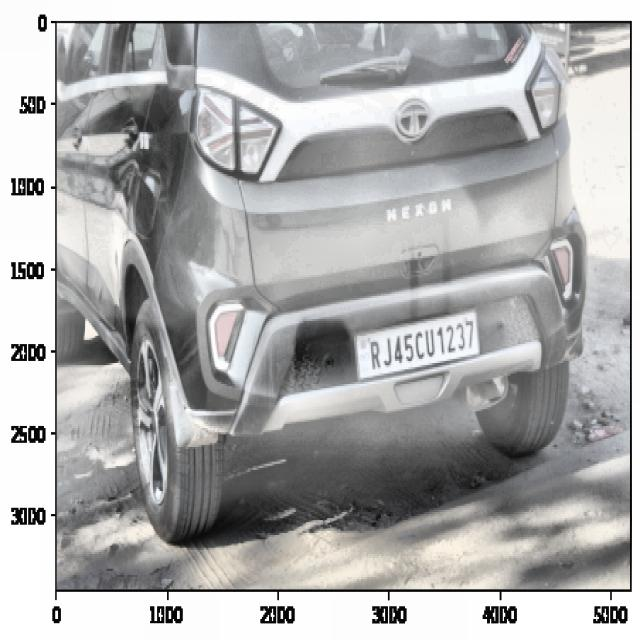license_plate: (366, 316, 479, 372)
